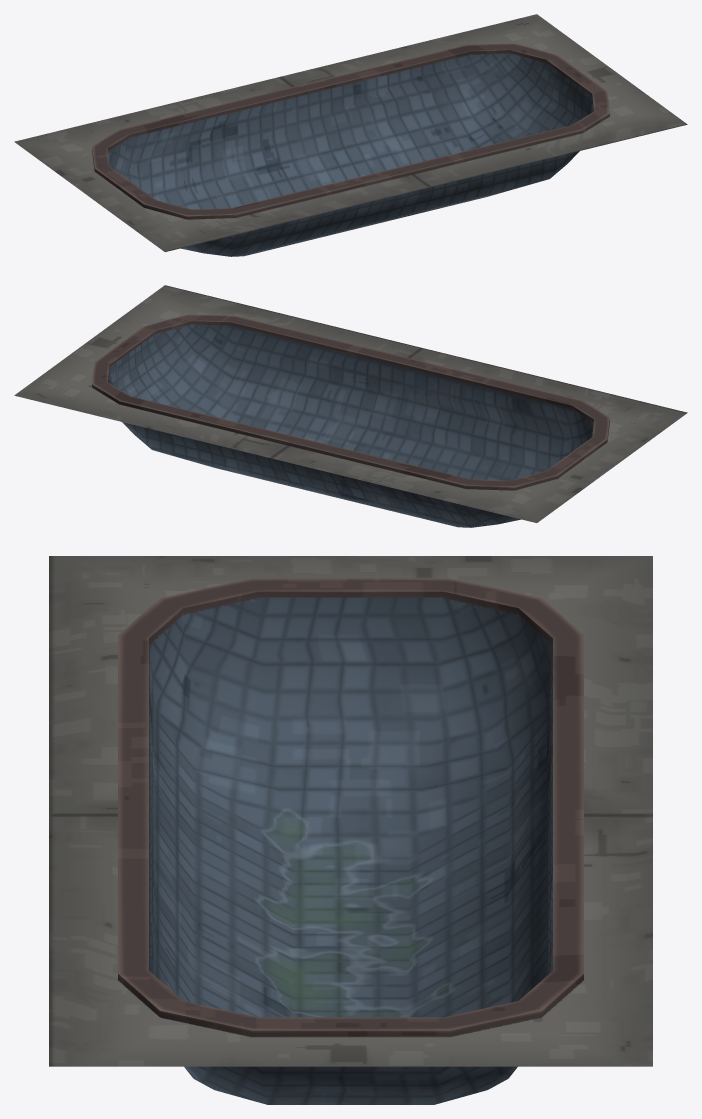
File: BuildingEmptPool.fbx
3 views of the same model, one above another, from view 1: azimuth 30°, elevation 25°; view 2: azimuth 150°, elevation 25°; view 3: azimuth 270°, elevation 25° (orthographic). The views are drawn at different scales.
Parts seen in each view (by area): view 1: BuildingEmptPool; view 2: BuildingEmptPool; view 3: BuildingEmptPool.
Part boxes in pixels (box(x1,y1,x2,y2)): BuildingEmptPool: box(14, 14, 687, 256); BuildingEmptPool: box(14, 285, 687, 527); BuildingEmptPool: box(49, 556, 652, 1104).
Size of the model in its own units: 200 by 31.54 by 100.
